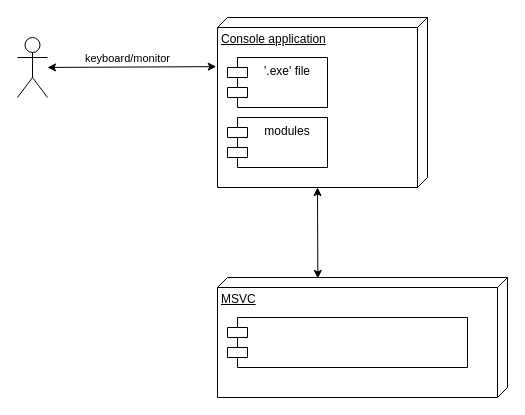
Image size: 525x415. Some labels were removed from this diagram. The shapes that lost their labels are listed below. From the top down, each one's centre as x and y in pixels, then its label:
At (32,67): "user".
At (347,342): "Microsoft Visual C++ 2019 (x86) Microsoft Visual C++ 2019 (x86)".
